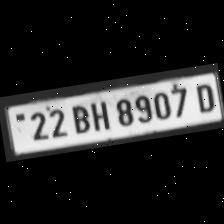0: (148, 87, 172, 120)
2: (23, 107, 49, 143), (44, 104, 69, 138)
7: (167, 82, 191, 119)
8: (109, 93, 135, 128)
9: (130, 90, 155, 124)
B: (65, 101, 92, 135)
D: (189, 80, 218, 114)
H: (86, 96, 112, 132)
